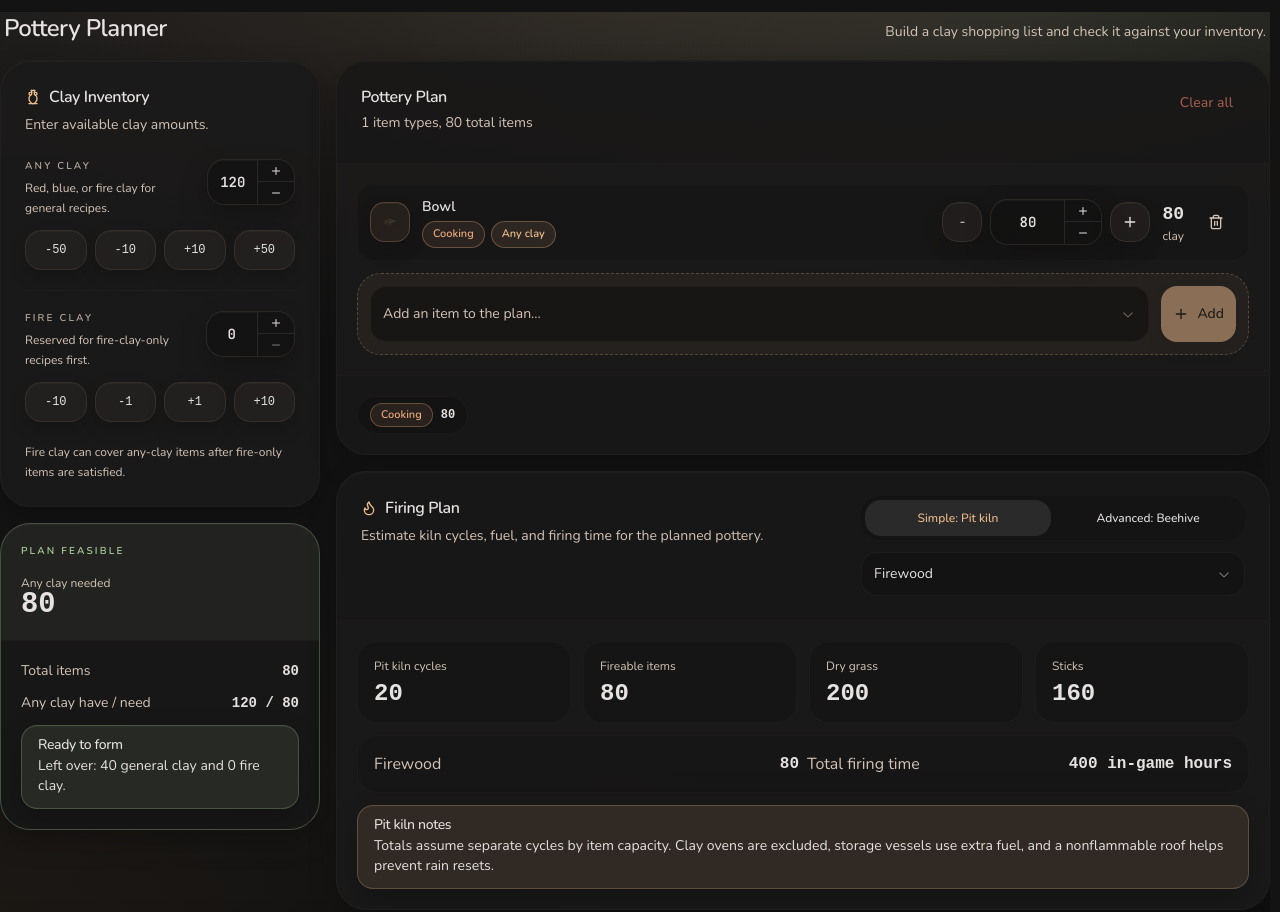
Test: PotteryPlanner › switches kiln mode and fuel summaries
The image size is (1280, 912).
Expected: the text "Pit kiln cycles" is shown, [374,658,447,674]
Expected: the text "400 in-game hours" is shown, [1069,752,1232,776]
Click the dropdown labelled "Firewood": (903,574) [861,552,1245,596]
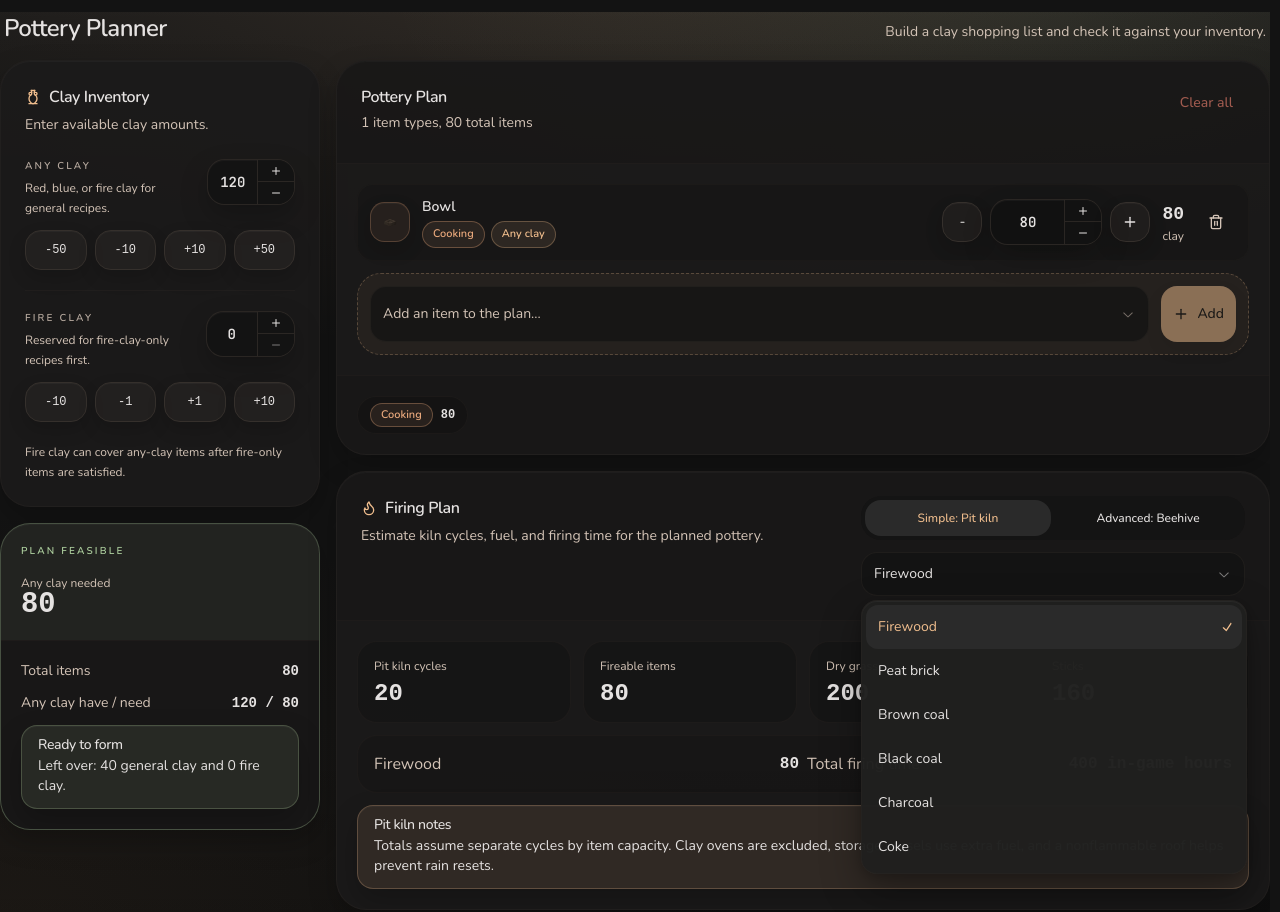
Click the option "Charcoal": (906,802) [878,793,933,812]
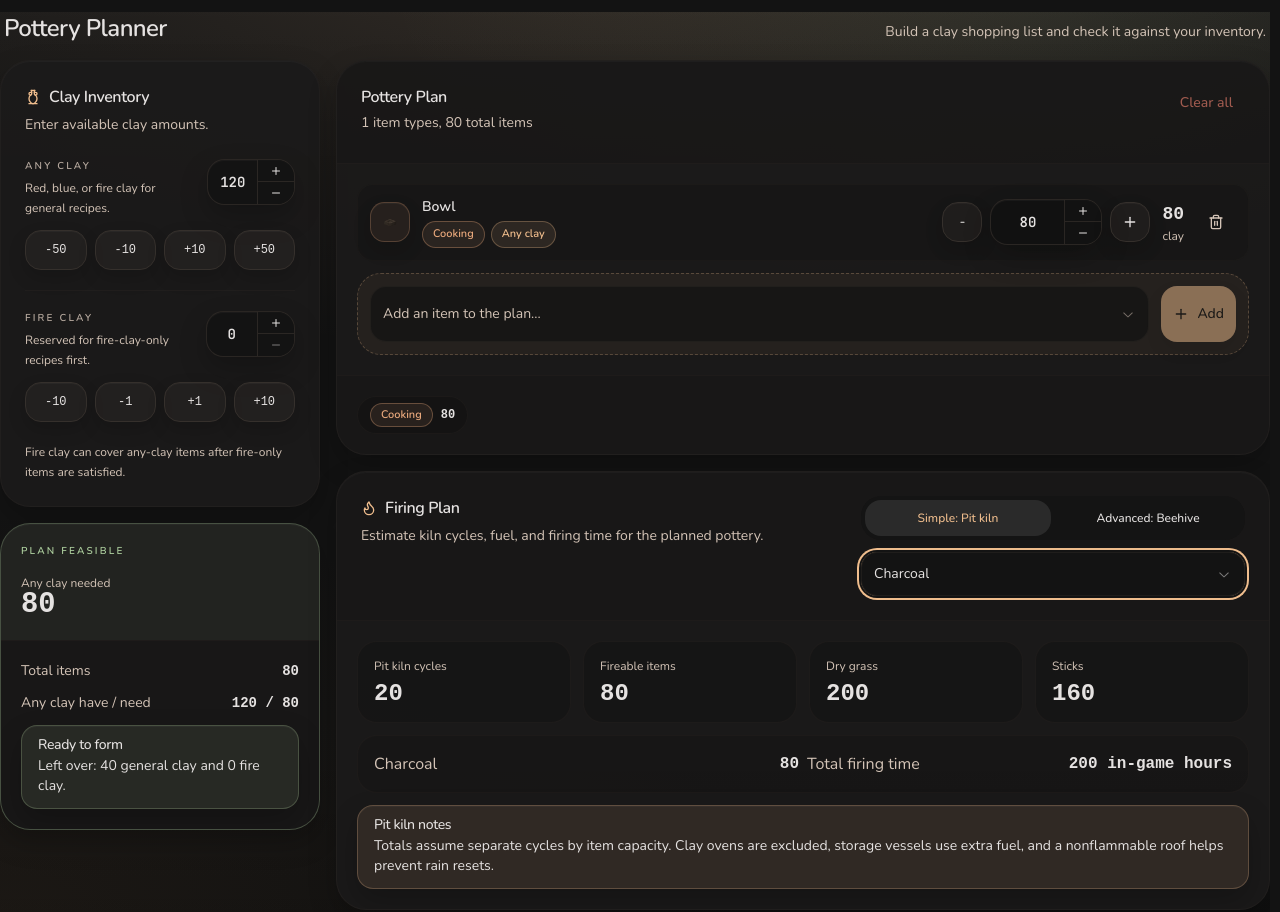
Result: the text "200 in-game hours" is shown at [1069,752,1232,776]
Click the radio button labelled "Advanced: Beehive": (1148,518) [1055,500,1241,536]
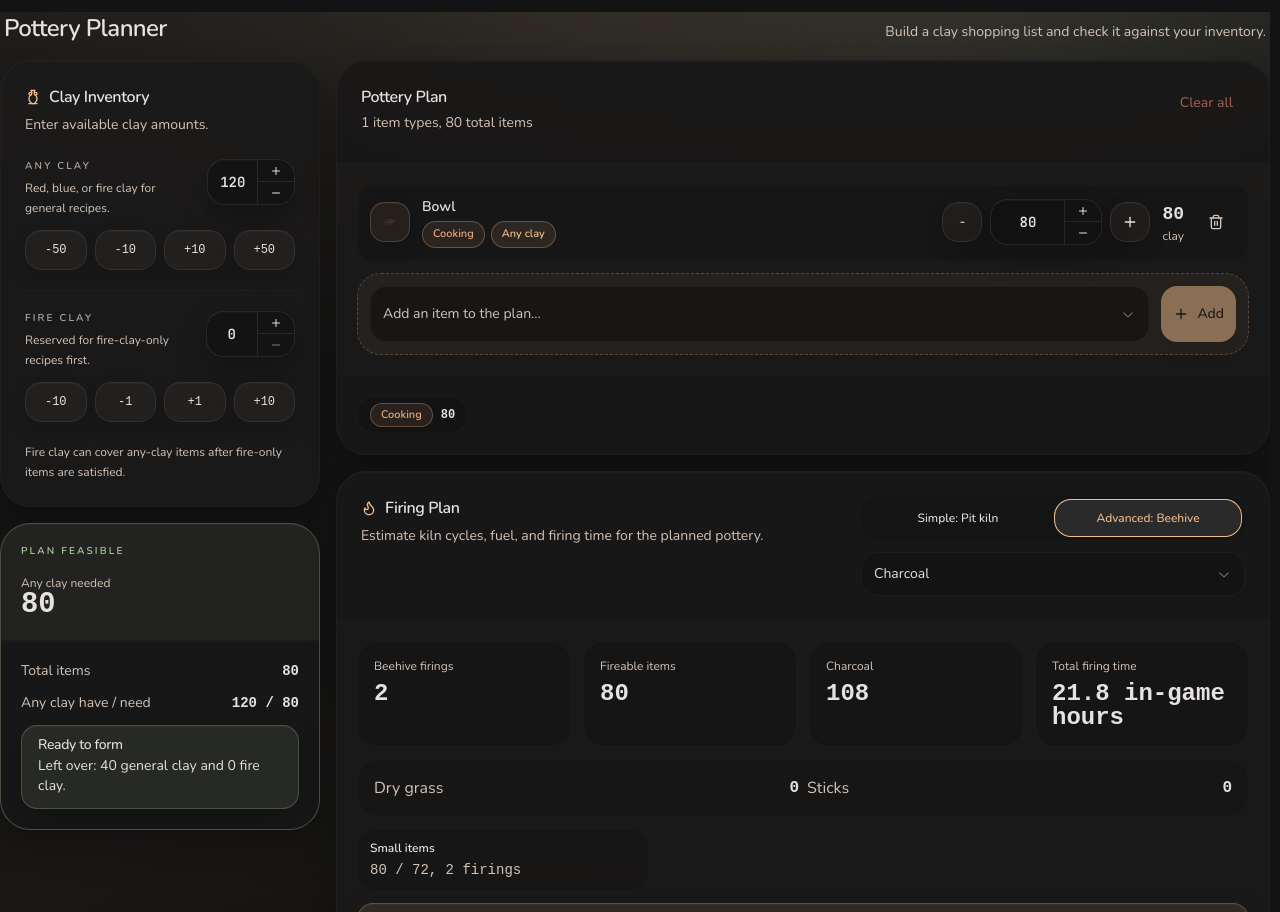
Result: the text "Beehive firings" is shown at [374,658,454,674]
Result: the text "21.8 in-game hours" is shown at [1052,682,1232,730]
Result: the text "80 / 72, 2 firings" is shown at [370,862,521,878]
